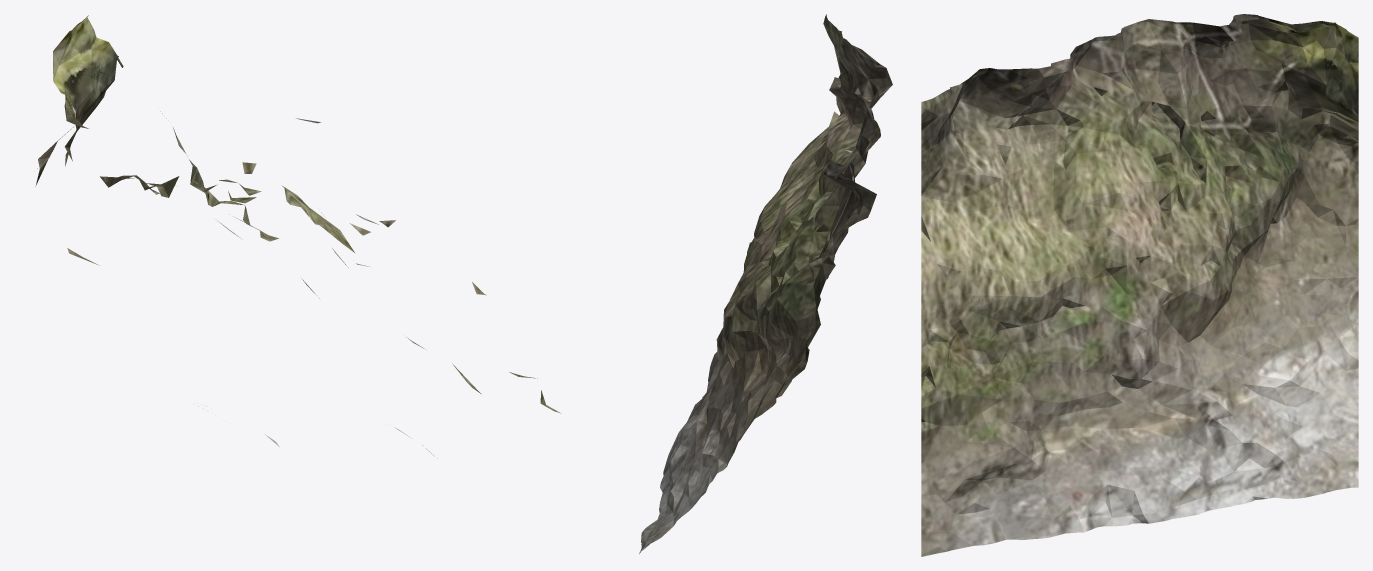
3 renders of one model, left to right at view 1: azimuth 30°, elevation 25°; view 2: azimuth 150°, elevation 25°; view 3: azimuth 270°, elevation 25°, orthographic. The views are drawn at different scales.
Bounding box in the file's own units: 2.58 × 2.95 × 2.95.
Materials: 3 (3 with a texture image).
